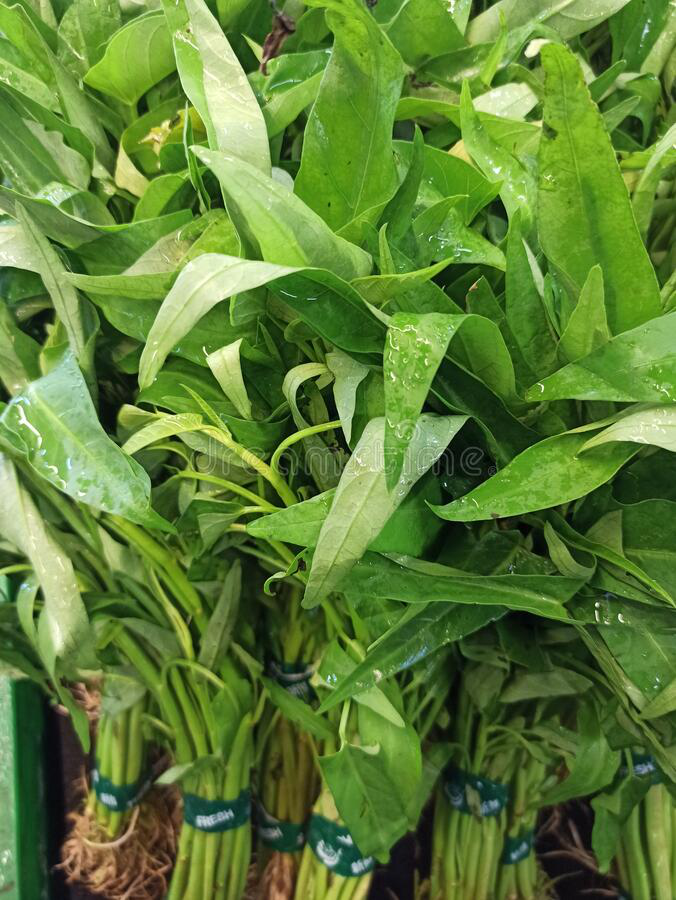Kangkung: (74, 144, 570, 585)
